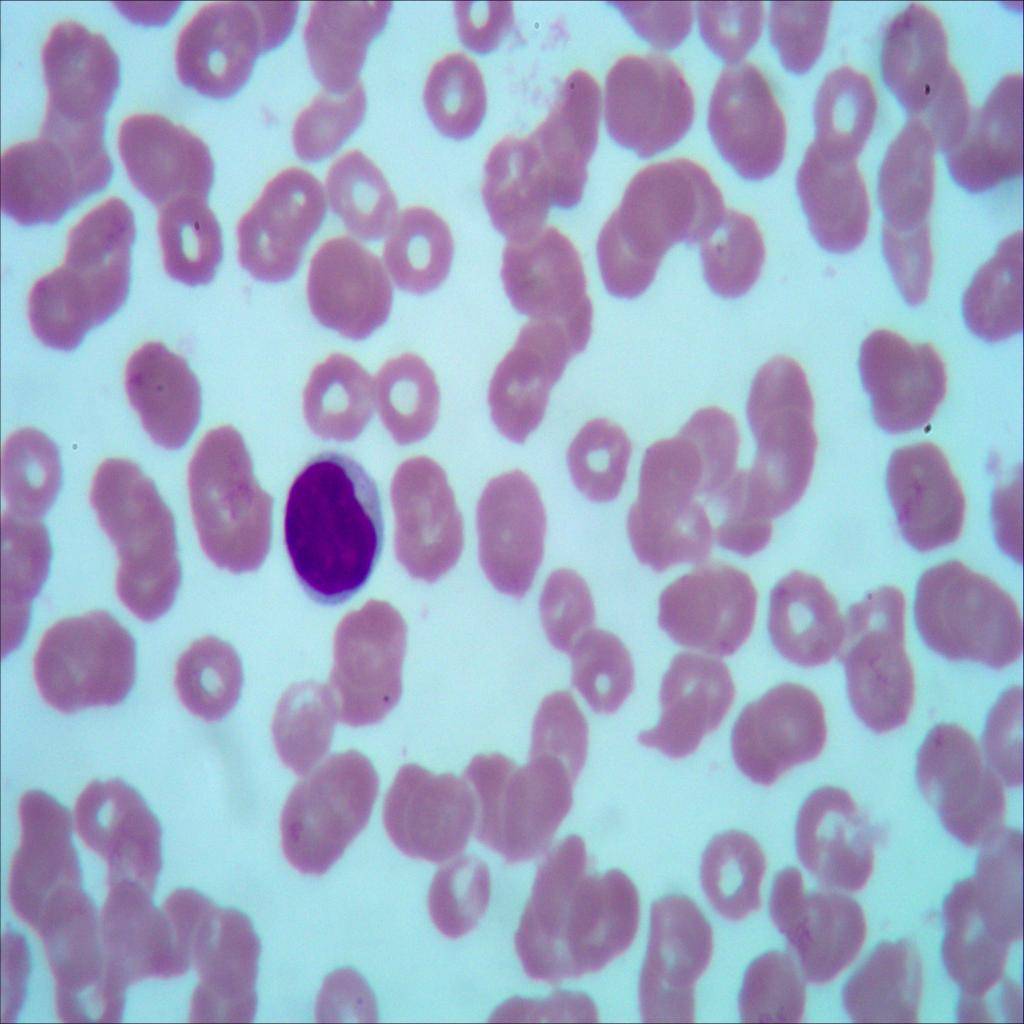Limfoblast: (268, 448, 390, 605)
